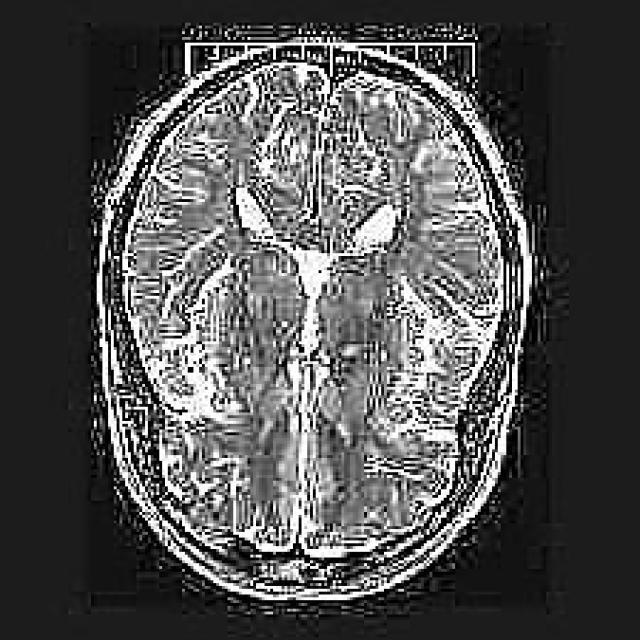notumor: (97, 43, 535, 609)
